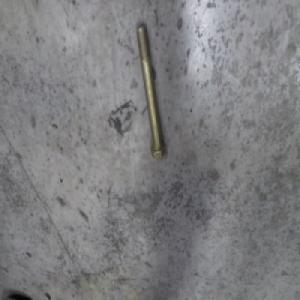Bolt: (134, 30, 168, 166)
